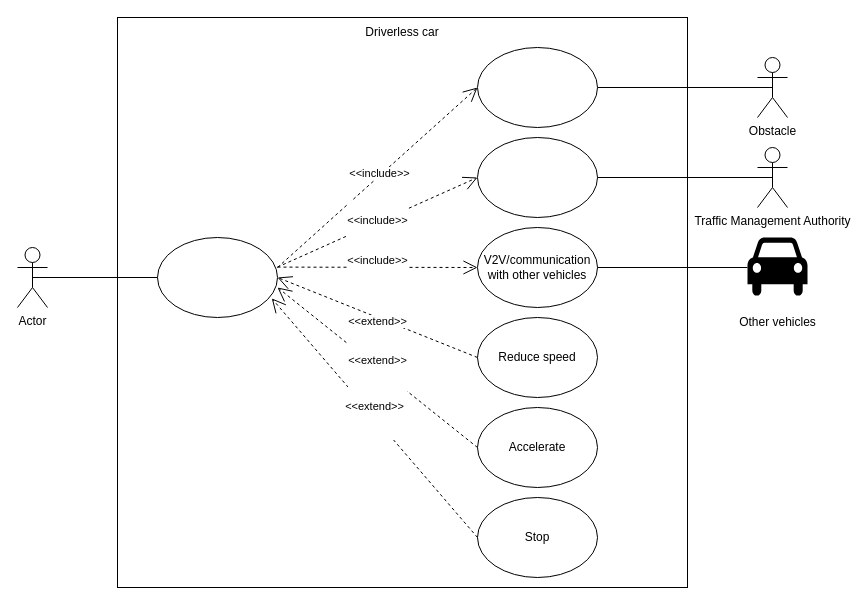
Some shapes in this 868 by 605 pixel diagram are drawn without their labels. Each missing label, with the box of its shape:
Detect obstacles: (476, 46, 598, 128)
Detect traffic signs: (476, 136, 598, 218)
Manage Car: (156, 236, 278, 318)
